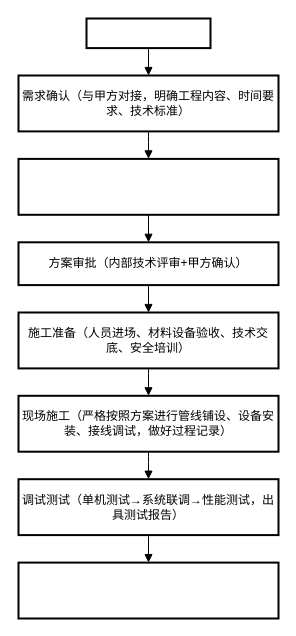
Image size: 296x636. Some labels were removed from this diagram. The shapes that lost their labels are listed below. From the top down, each one's box as (x1, y1, x2, y2) in pixels, then its label:
(85, 17, 211, 49): 项目启动
(17, 157, 279, 215): 方案编制（结合机场规范，制定施工方案、安全方案、应急方案）
(17, 561, 279, 619): 验收交付（自检合格后提交甲方验收，移交竣工资料、操作手册）
